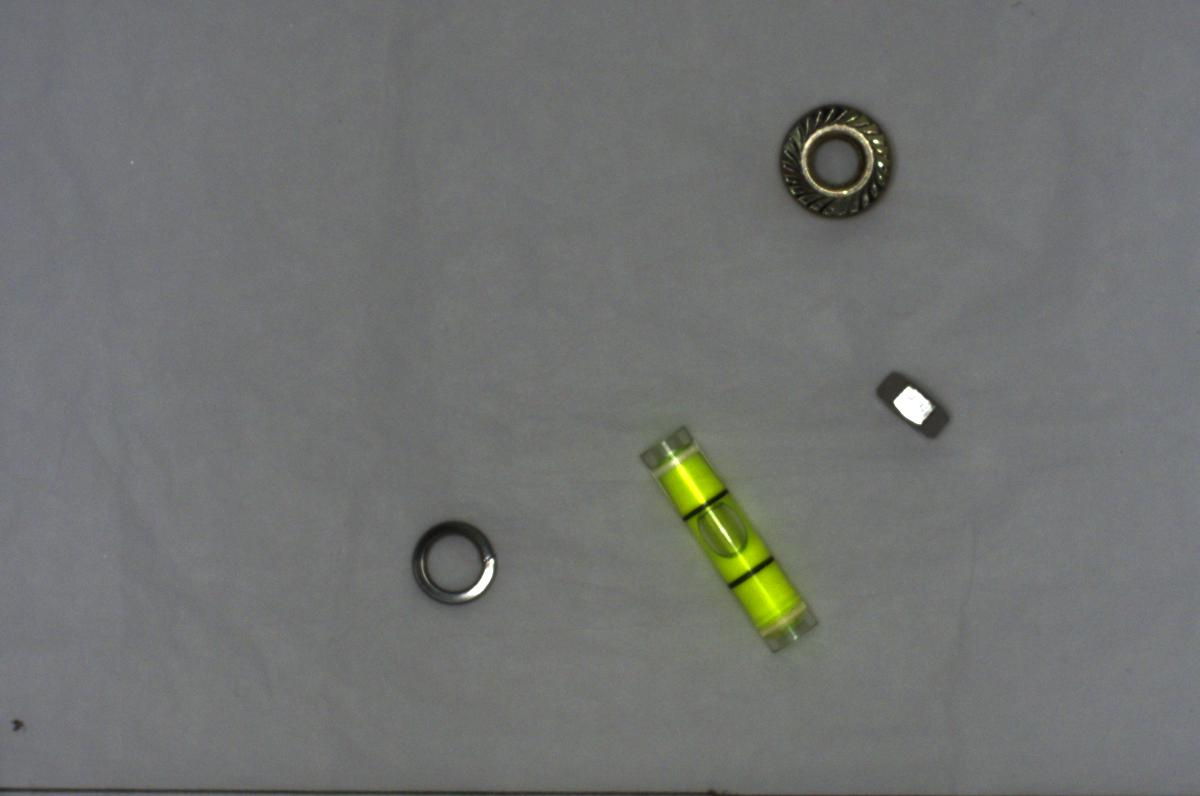Flange nut: (762, 94, 899, 226)
Hexagon nut: (865, 368, 958, 447)
Horizontal bubble: (631, 413, 824, 661)
Spring washer: (406, 510, 504, 610)
